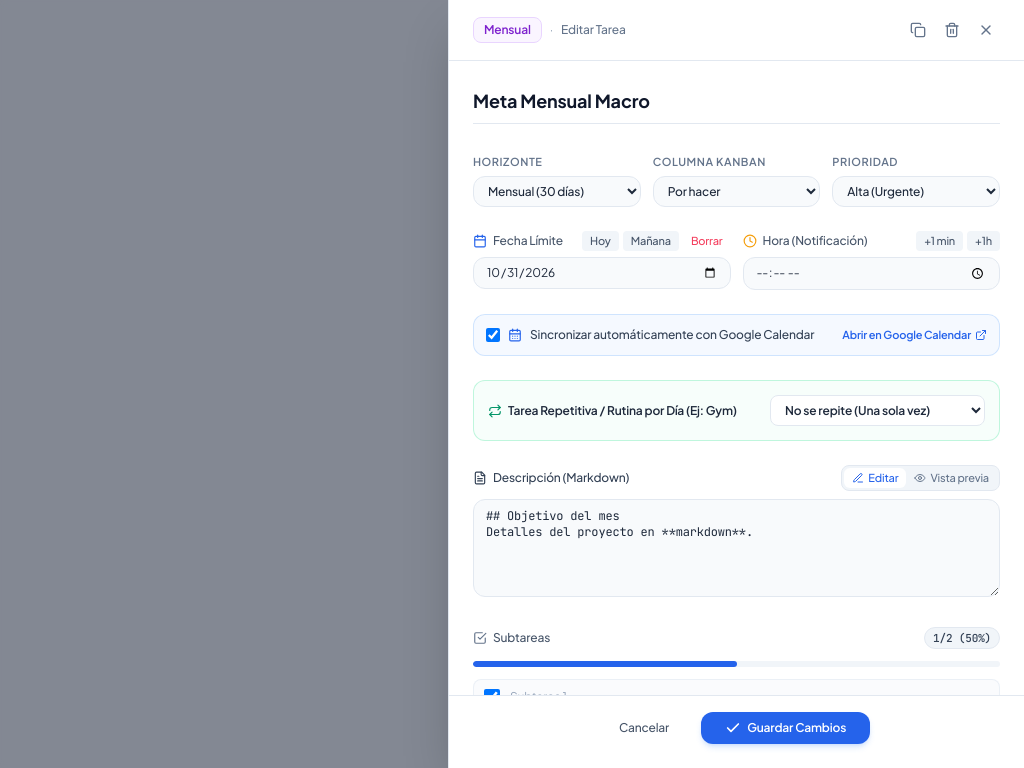
Test: Milestone 4: Kanban Board, DnD & Task Drawer Test Suite › TaskDrawer Editor & Validation › toggles between Markdown edit and preview mode
Expected: the text "Vista previa" is shown, [930,470,989,486]
What coordinates should you click on to do the following:
click the button "Vista previa"
I would click on:
 (952, 478)
Its box is [906,468,997,488].
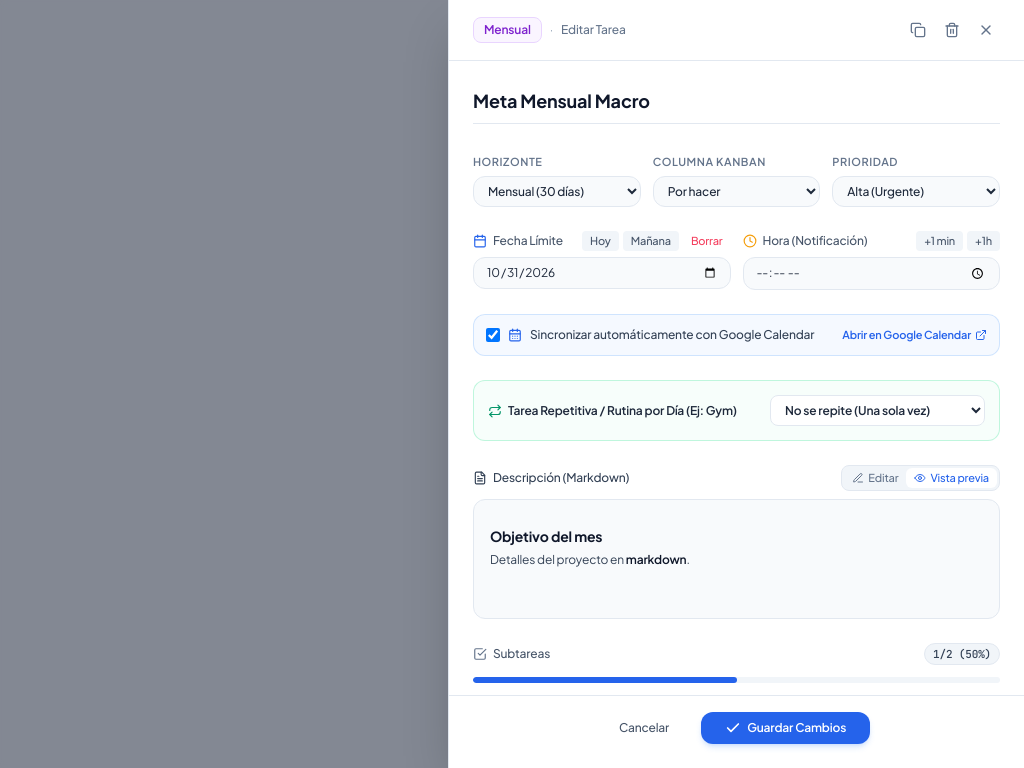
Now the heading "Objetivo del mes" is shown, box [490,527,602,545]
Now the text "markdown" is shown, box [626,552,686,567]
Note: Toggle back to edit
What coordinates should you click on to do the following:
click the button "Editar"
I would click on:
 (875, 478)
Its box is [844,468,906,488].
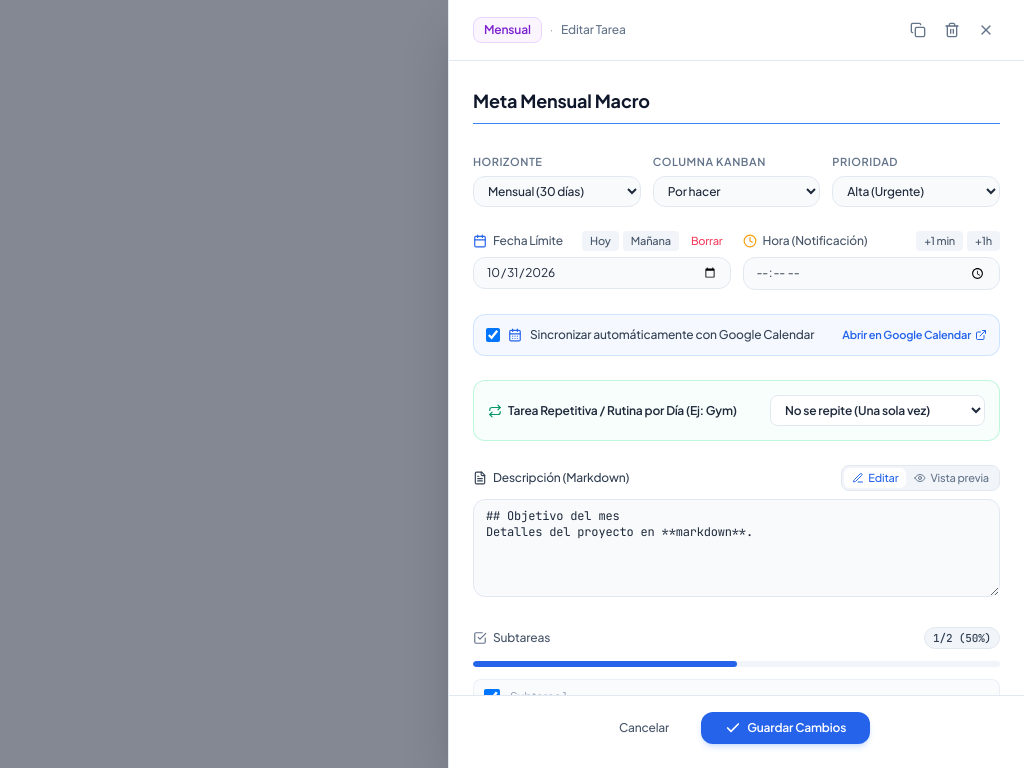
Now the text box showing "## Objetivo del mes" is shown, box [473,499,1000,597]
